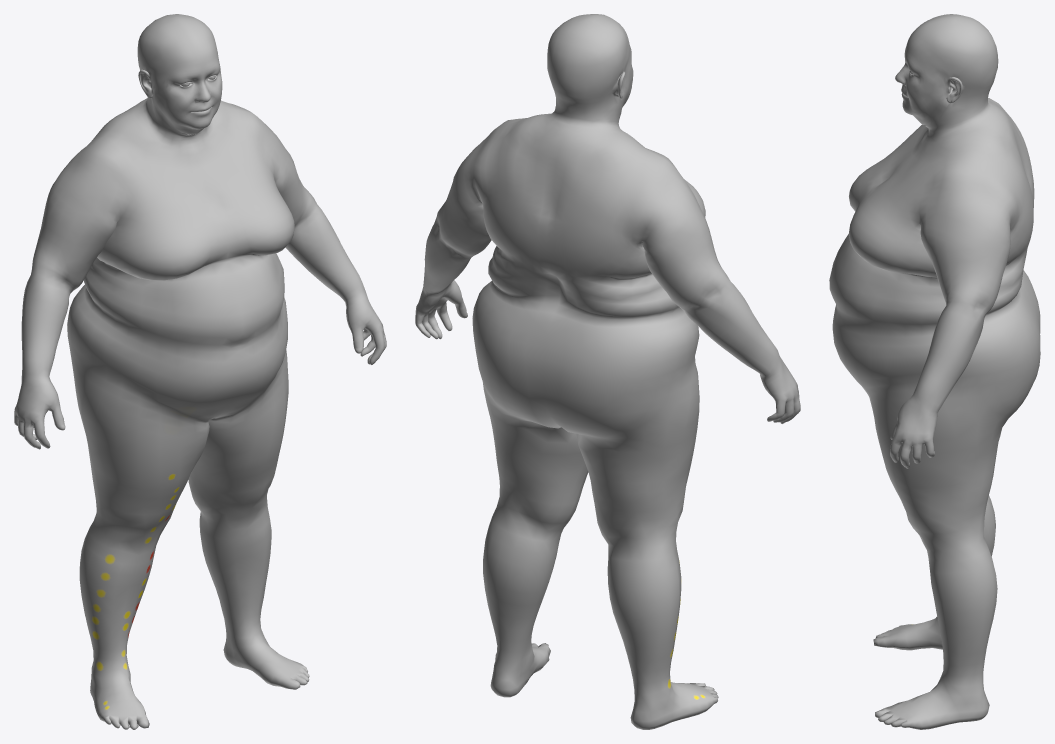
Rendered from 1135032-supine-red+yellow.gltf.
The picture shows the model from 3 angles, left to right: view 1: azimuth 30°, elevation 25°; view 2: azimuth 150°, elevation 25°; view 3: azimuth 270°, elevation 25°; orthographic projection. The views are drawn at different scales.
Visible parts, largest first — view 1: Female 63in 275lbs; view 2: Female 63in 275lbs; view 3: Female 63in 275lbs.
Part boxes in pixels (x1,y1,x2,y2): Female 63in 275lbs: (14,14,386,729); Female 63in 275lbs: (415,14,800,729); Female 63in 275lbs: (829,14,1040,729).
Size of the model in its own units: 2.74 by 4.81 by 1.38.
Materials: 1 (1 with a texture image).
